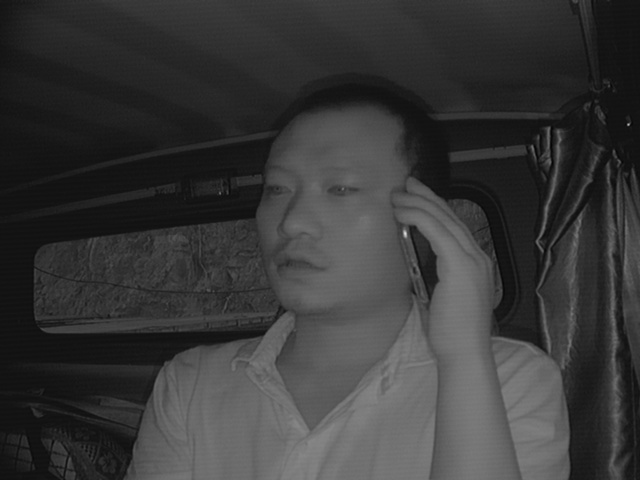hand: (388, 182, 487, 337)
